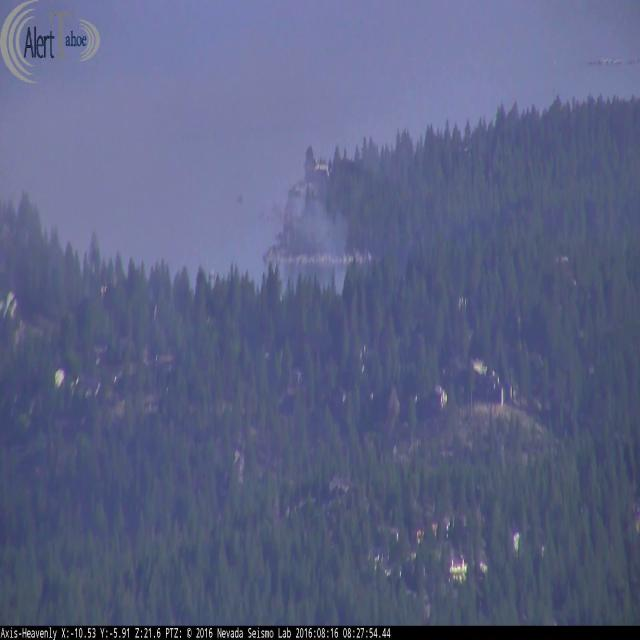smoke: (260, 172, 350, 296)
